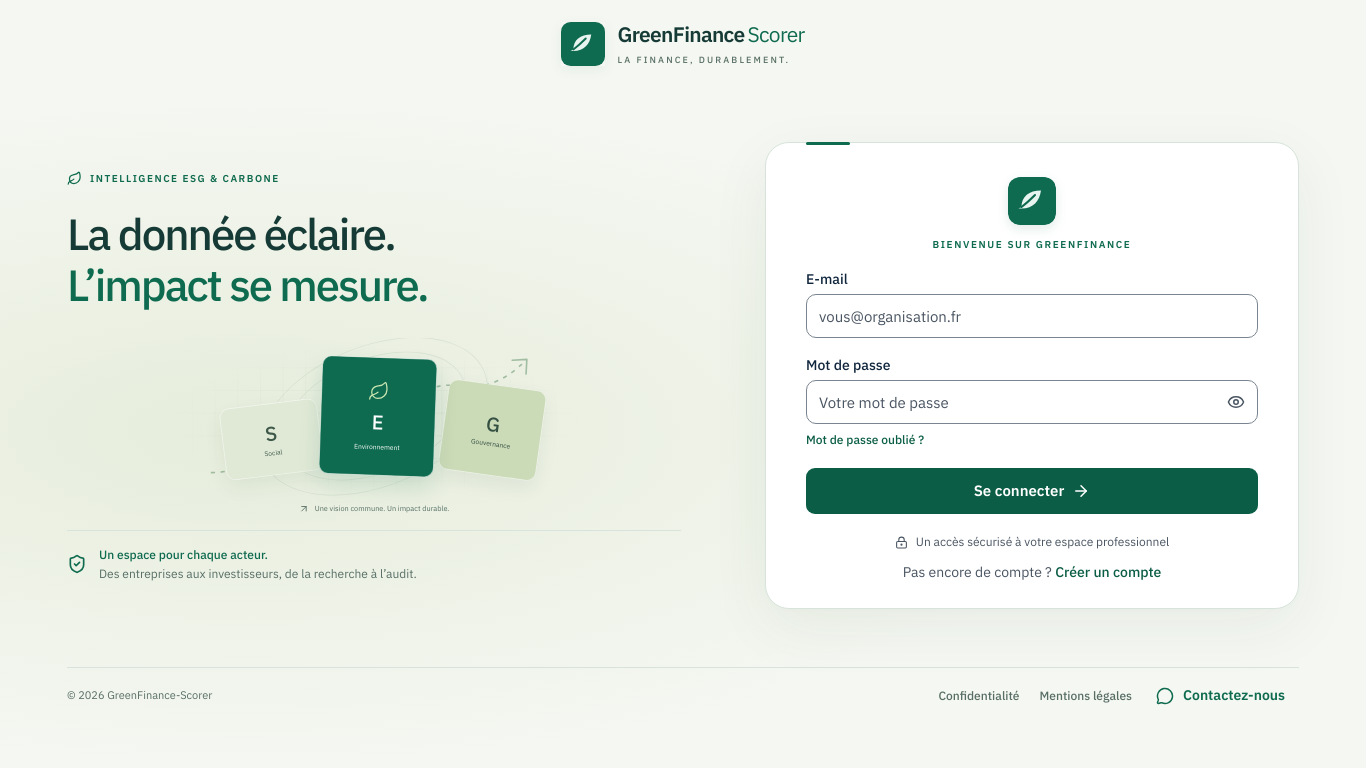
Test: LoginPage › affiche une erreur adaptée au statut 401
This screenshot has width=1366, height=768.
Type "membre@example.org" into the field labelled "E-mail".
click(1032, 316); type("membre@example.org")  # box [806,294,1258,338]
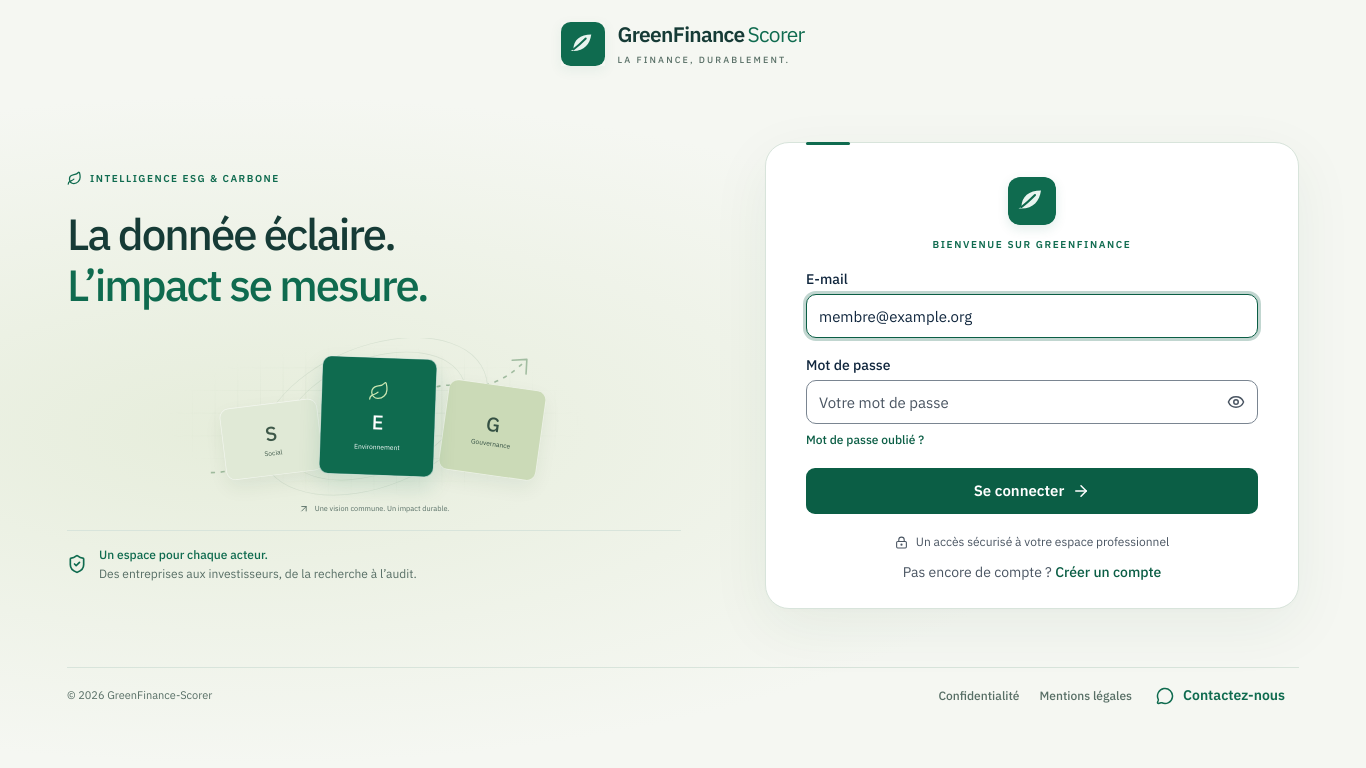
Type "mon-secret" into the password field labelled "Mot de passe".
click(1032, 402); type("mon-secret")  # box [806,380,1258,424]
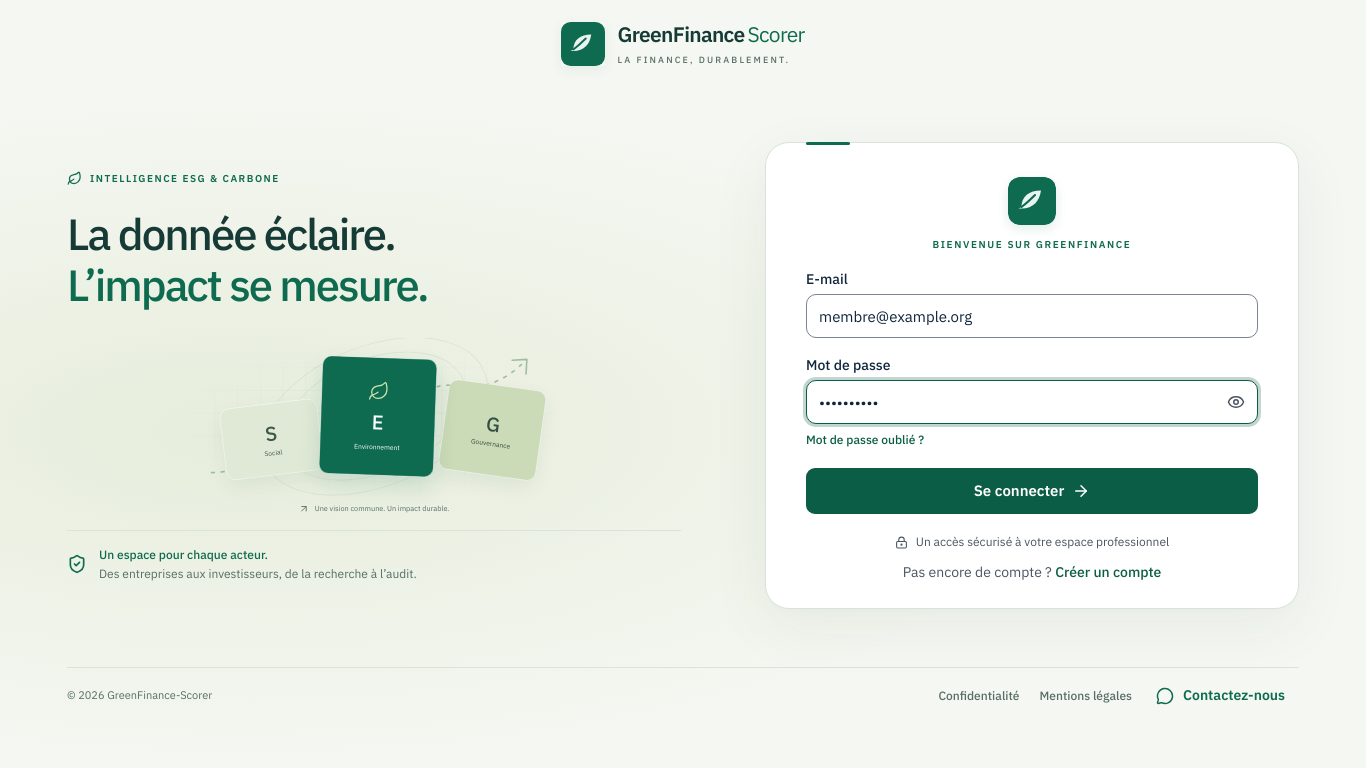
Click the button "Se connecter".
click(1032, 491)  # box [806,468,1258,514]
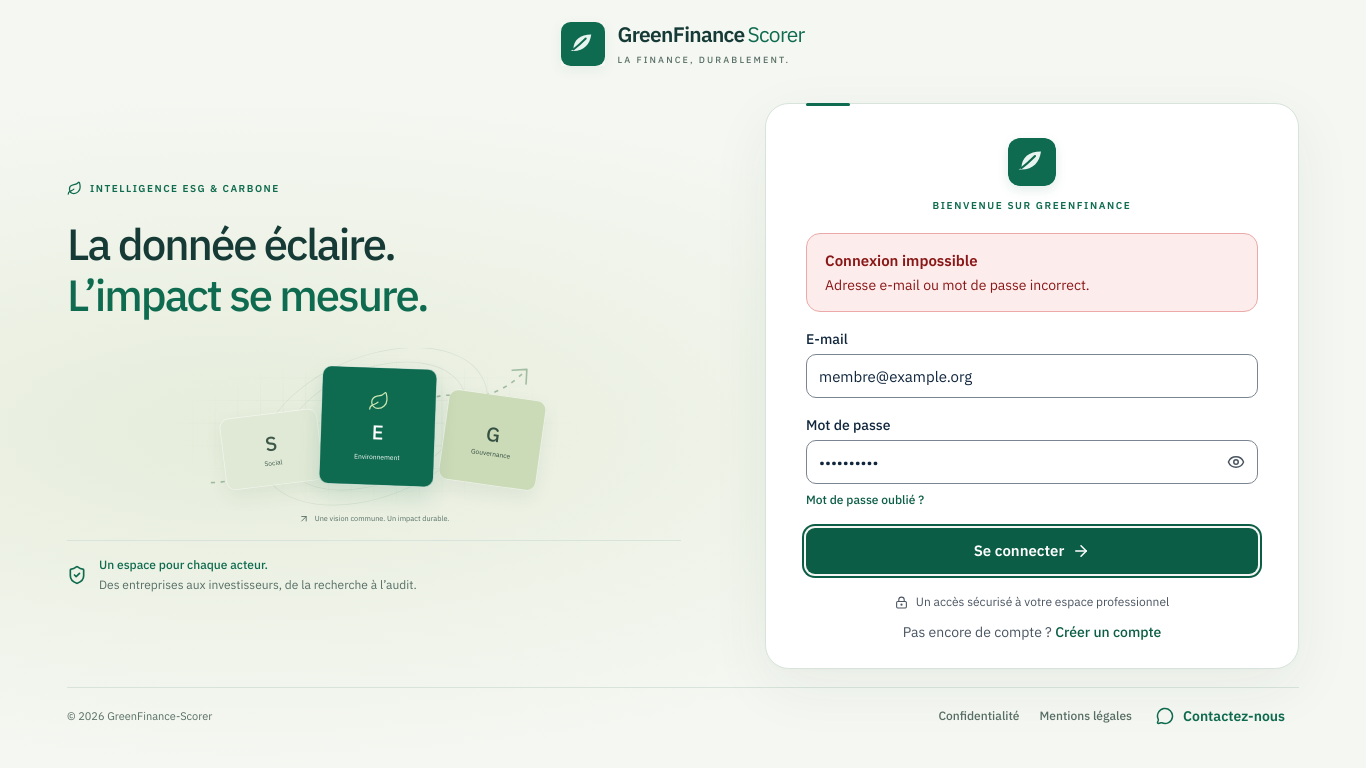
Check: the message shows "Adresse e-mail ou mot de passe incorrect.", box [825,276,1090,294]
